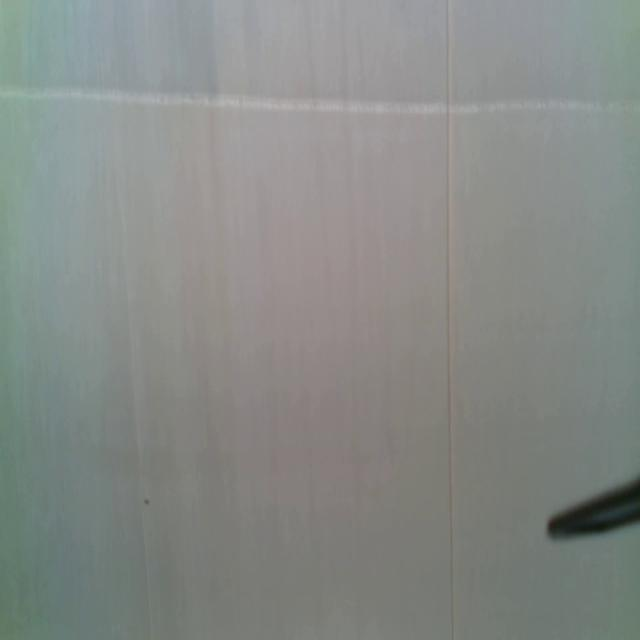crease: (124, 264, 154, 634), (444, 2, 458, 639)
hole: (142, 493, 152, 508)
